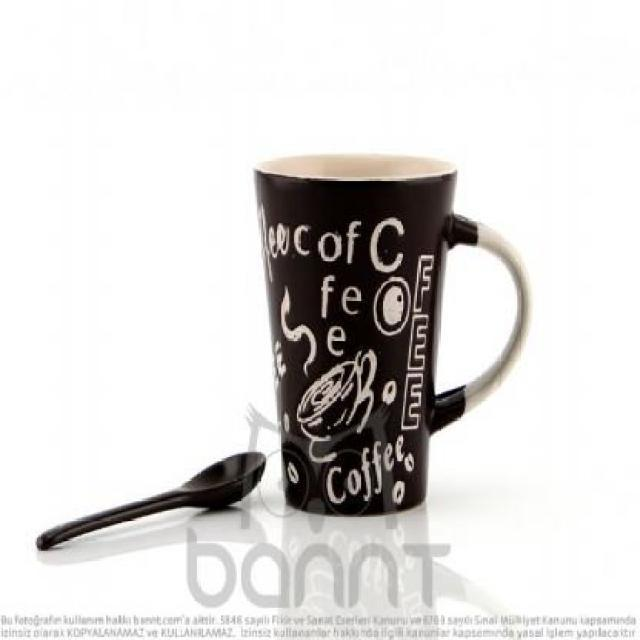taza: (40, 102, 498, 564)
